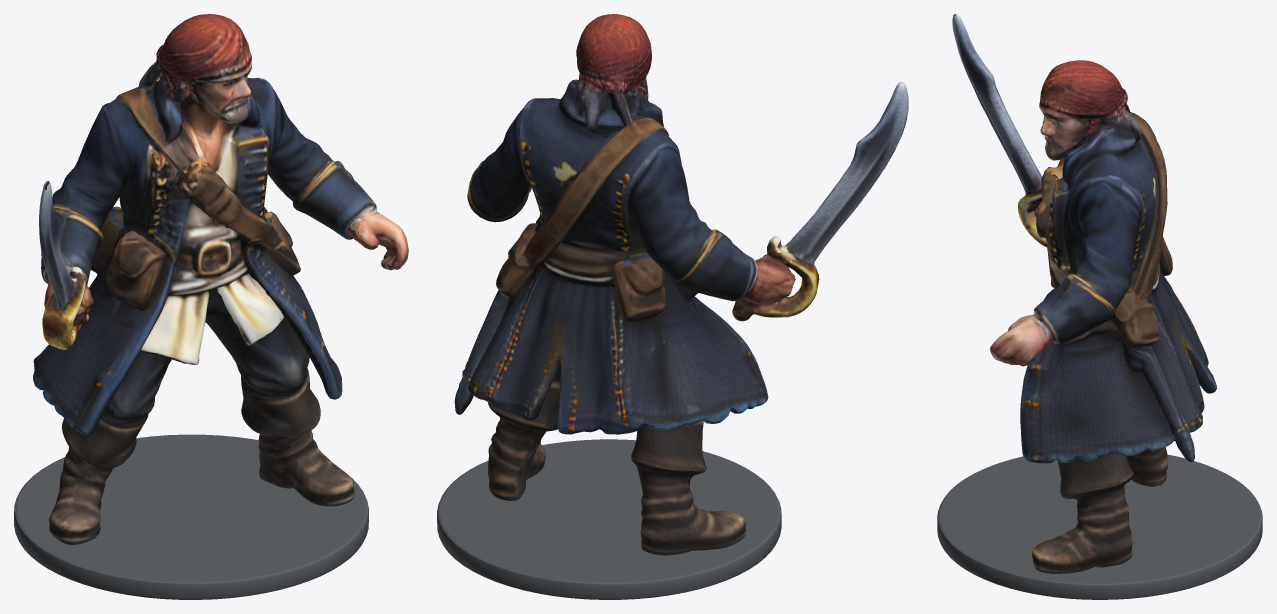
File: pirate-first-mate.glb
3 renders of one model, left to right at view 1: azimuth 30°, elevation 25°; view 2: azimuth 150°, elevation 25°; view 3: azimuth 270°, elevation 25°, orthographic. The views are drawn at different scales.
Visible parts, largest first — view 1: pirate-first-mate_body, pirate-first-mate_round_base; view 2: pirate-first-mate_body, pirate-first-mate_round_base; view 3: pirate-first-mate_body, pirate-first-mate_round_base.
Part boxes in pixels (box(x1,y1,x2,y2)): pirate-first-mate_body: box(33, 14, 408, 544); pirate-first-mate_round_base: box(14, 434, 368, 599); pirate-first-mate_body: box(454, 14, 908, 555); pirate-first-mate_round_base: box(437, 439, 781, 599); pirate-first-mate_body: box(952, 14, 1216, 573); pirate-first-mate_round_base: box(937, 454, 1262, 599).
Bounding box in the file's own units: 1.29 × 1.6 × 1.
Materials: 2 (1 with a texture image).
